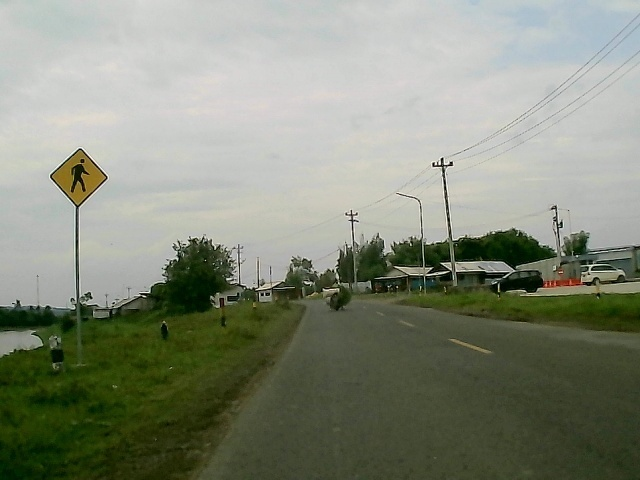Peringatan orang menyeberang: (44, 146, 115, 211)
